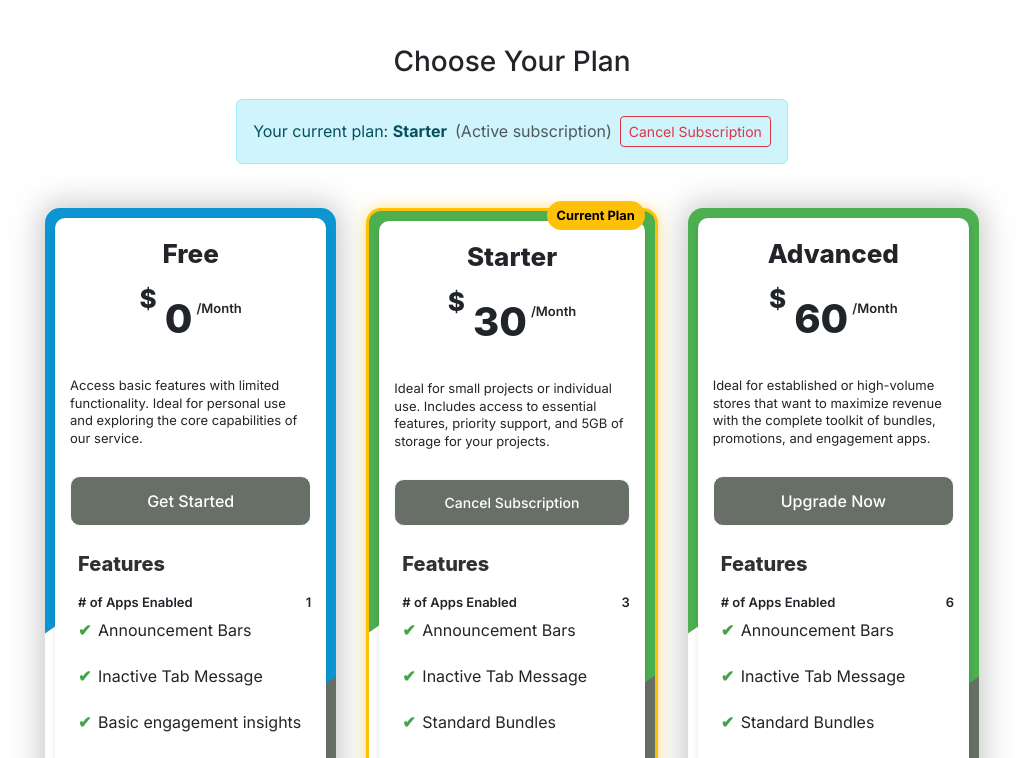
Test: Plan page - billing/subscription flow › cancelling a subscription shows a cancelling state, then the result modal, then re-syncs the plan
expect the text "Your current plan: Starter(Active subscription)" is shown: met, box left=253, top=119, right=612, bottom=143
Click the button "Cancel Subscription" next to "(Active subscription)" at [695, 131], box left=620, top=116, right=771, bottom=147
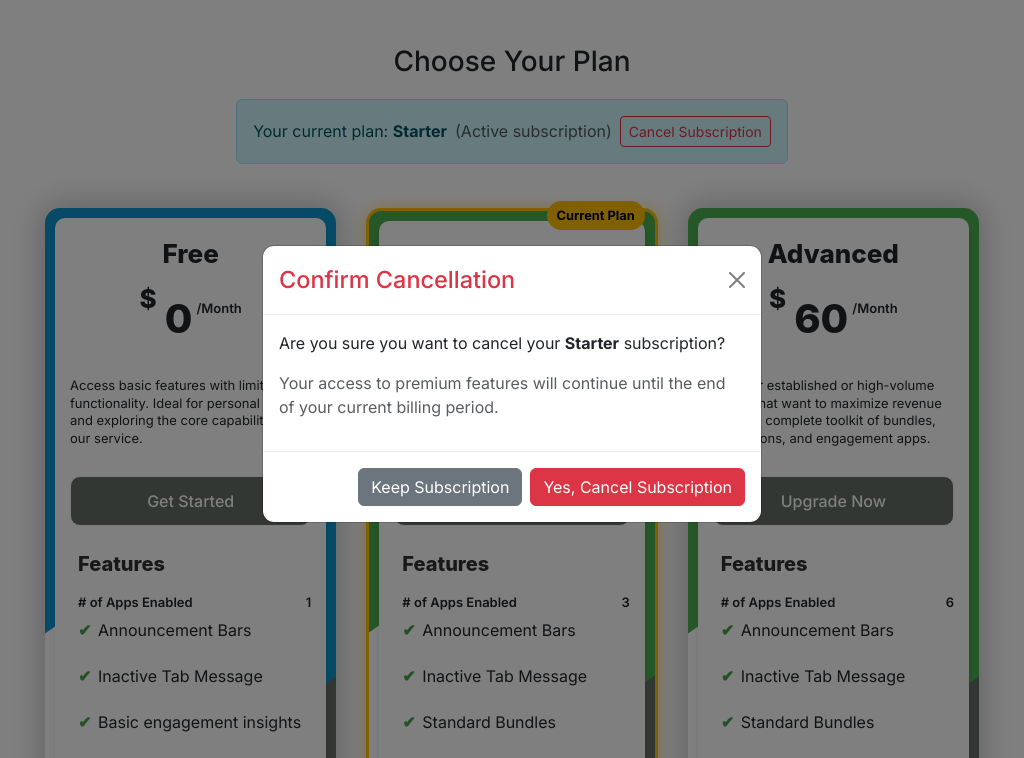
expect the text "Confirm Cancellation" is shown: met, box left=279, top=262, right=515, bottom=298
Click the button "Yes, Cancel Subscription" at [638, 487], box left=530, top=468, right=745, bottom=506
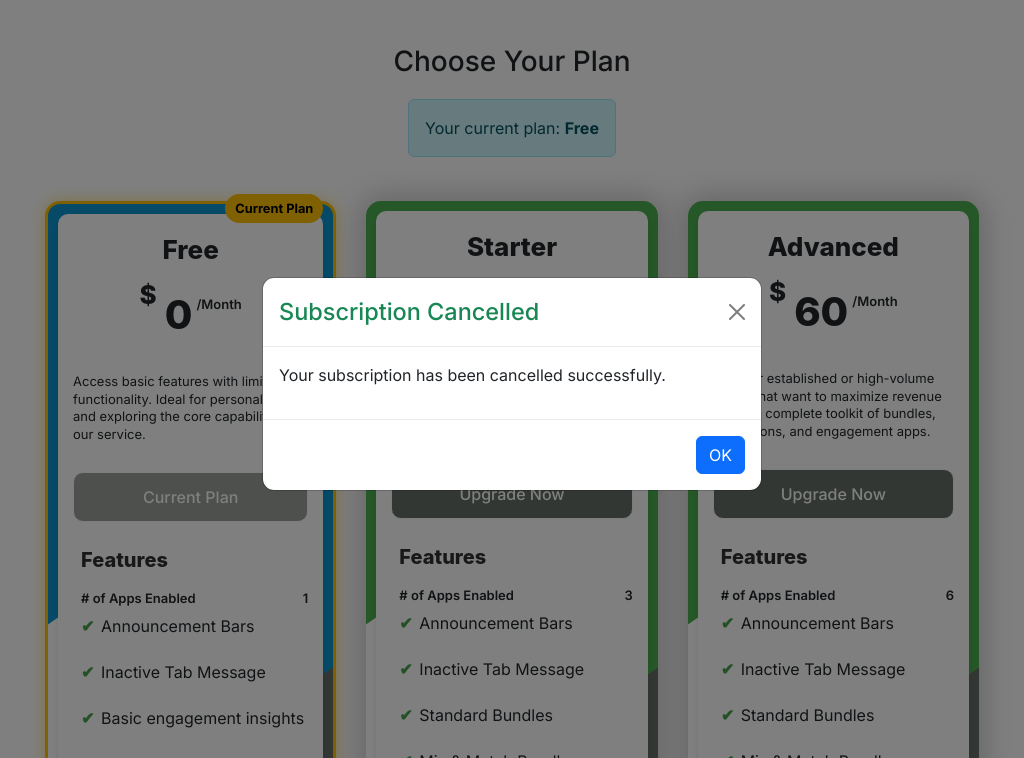
expect the text "Subscription Cancelled" is shown: met, box left=279, top=294, right=539, bottom=330
expect the text "Your subscription has been cancelled successfully." is shown: met, box left=279, top=365, right=666, bottom=385
